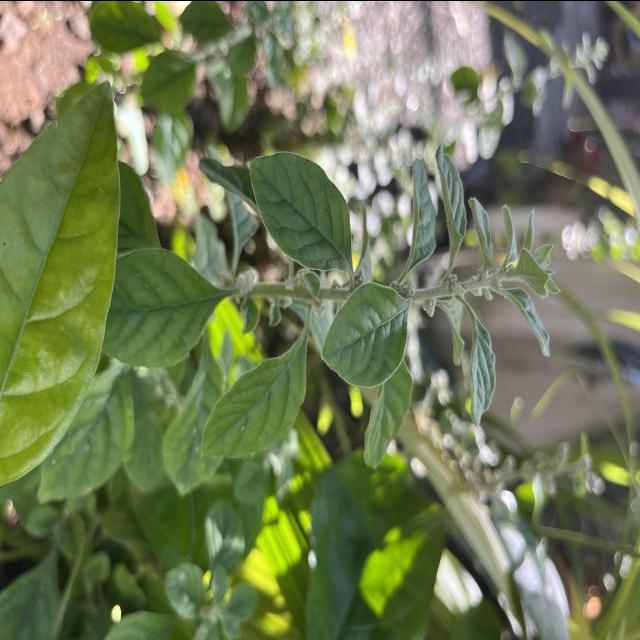Aerva lanata: (244, 149, 356, 272), (318, 280, 413, 390)
